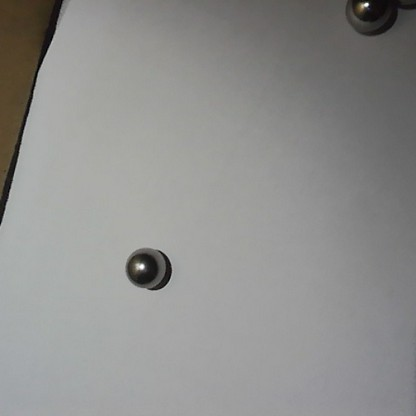ironball: (123, 240, 168, 292), (341, 0, 399, 36)
